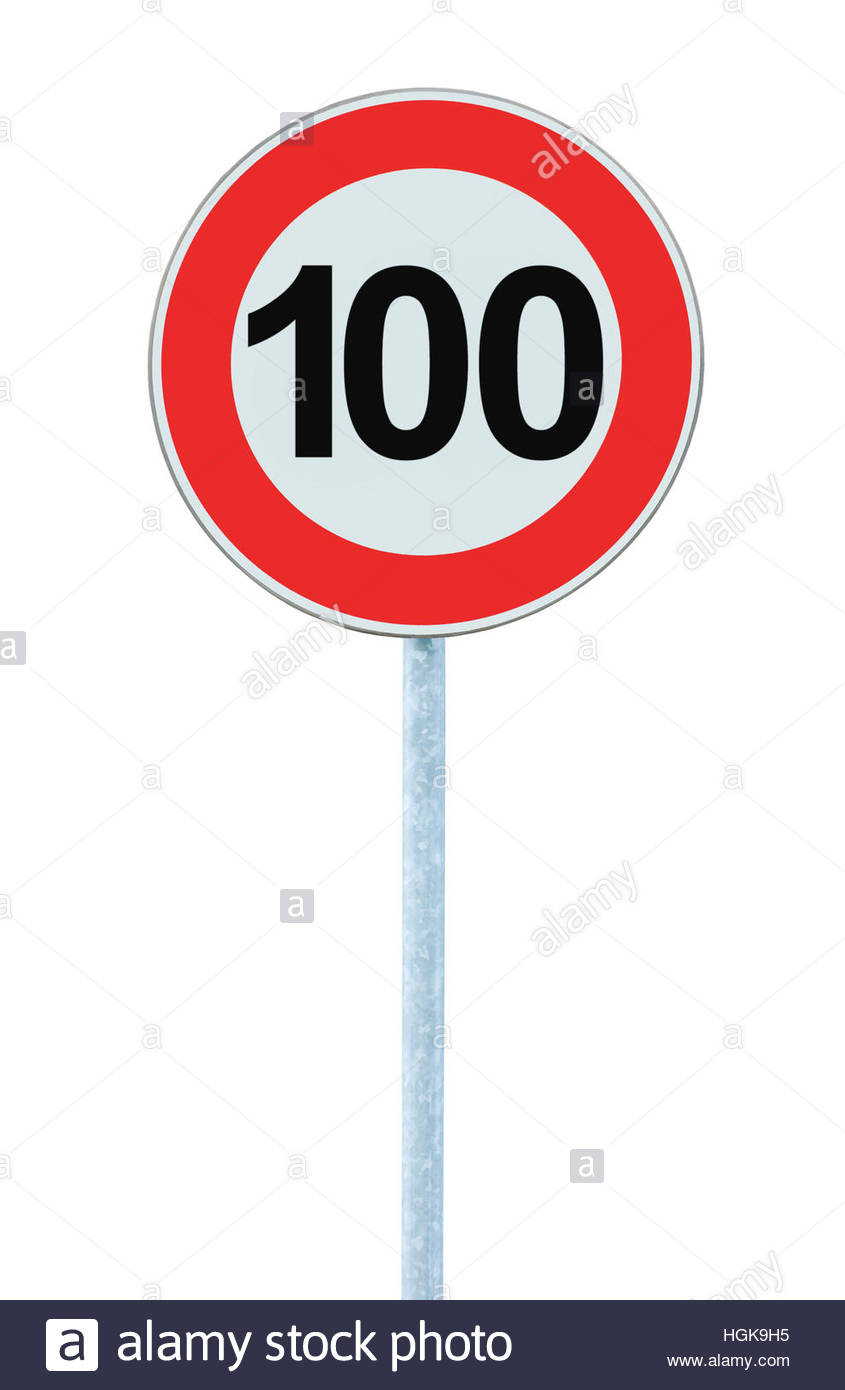Speed_limit_100km: (140, 85, 705, 639)
